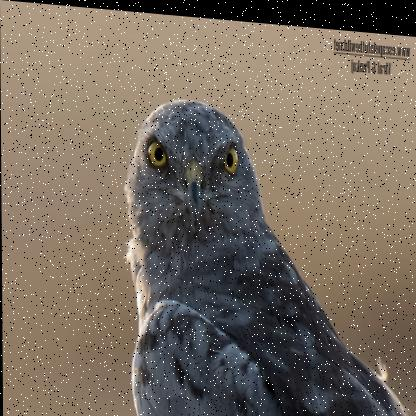Burung: (121, 88, 415, 415)
